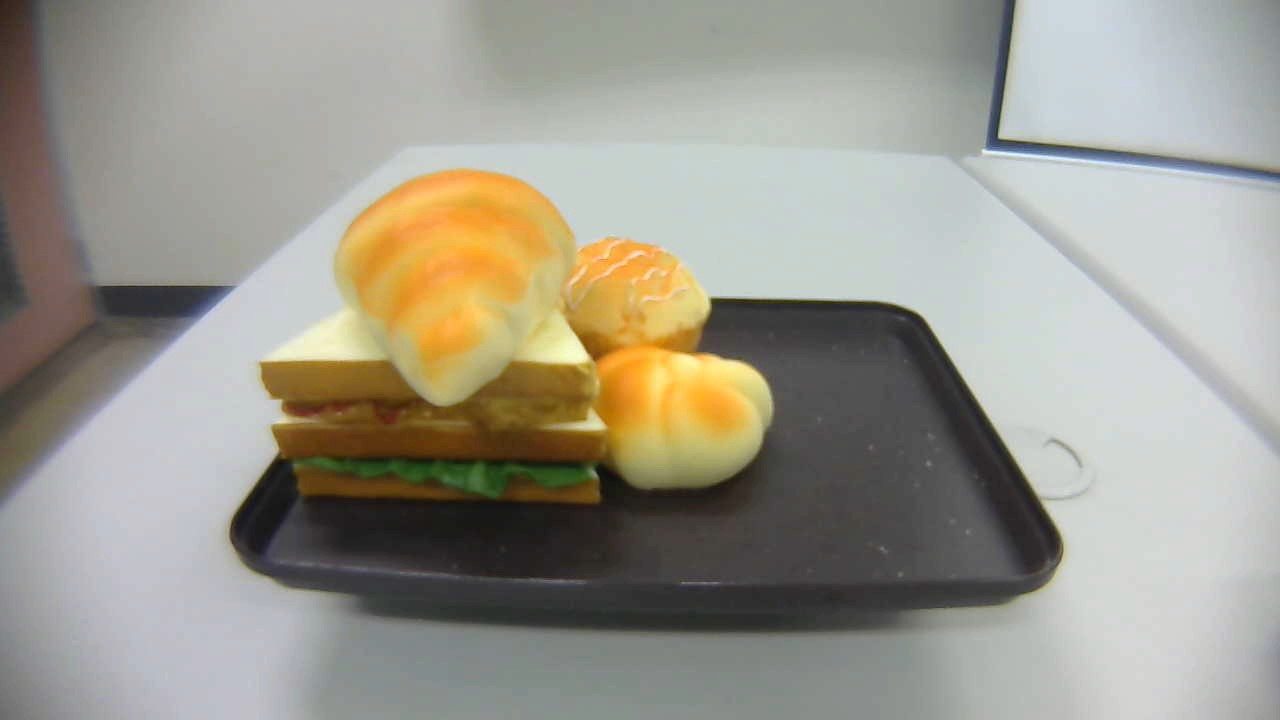croissant: (332, 168, 576, 410)
cupcake: (561, 237, 712, 377)
sandwich: (259, 232, 612, 507)
twist bread: (586, 347, 776, 492)
